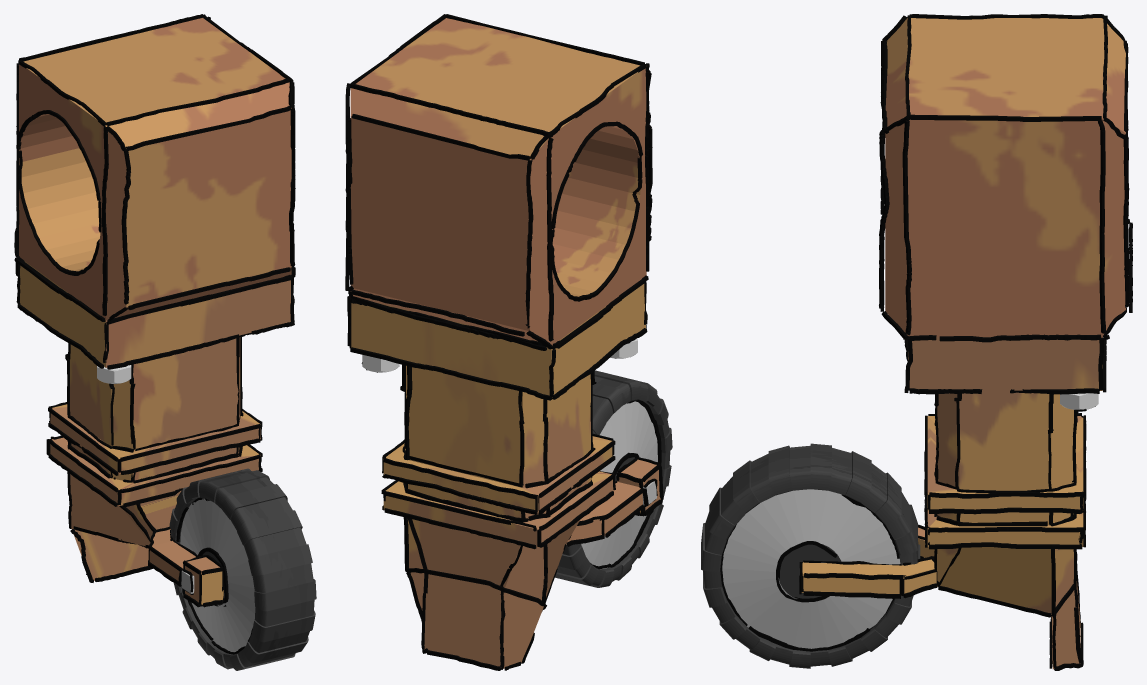
File: rollylegs.fbx
3 views of the same model, side by side, from view 1: azimuth 30°, elevation 25°; view 2: azimuth 150°, elevation 25°; view 3: azimuth 270°, elevation 25° (orthographic). The views are drawn at different scales.
Parts seen in each view (by area): view 1: Feet top, feet, wheel, feet top outline, GP_Layer.002, feet outline, screw1; view 2: Feet top, feet, GP_Layer.002, feet top outline, wheel, feet outline; view 3: Feet top, feet, wheel, GP_Layer.002, feet top outline, feet outline.
Part boxes in pixels (left/top/right/bottom): Feet top: left=19, top=18, right=291, bottom=320; feet: left=20, top=261, right=290, bottom=604; wheel: left=169, top=468, right=316, bottom=670; feet top outline: left=14, top=14, right=295, bottom=323; GP_Layer.002: left=46, top=335, right=262, bottom=654; feet outline: left=15, top=256, right=294, bottom=387; screw1: left=97, top=365, right=131, bottom=383; Feet top: left=350, top=18, right=646, bottom=345; feet: left=351, top=284, right=660, bottom=668; GP_Layer.002: left=381, top=382, right=663, bottom=670; feet top outline: left=345, top=14, right=652, bottom=350; wheel: left=555, top=370, right=672, bottom=587; feet outline: left=347, top=275, right=648, bottom=423; Feet top: left=885, top=18, right=1125, bottom=336; feet: left=801, top=337, right=1102, bottom=669; wheel: left=701, top=443, right=920, bottom=668; GP_Layer.002: left=720, top=397, right=1086, bottom=670; feet top outline: left=879, top=14, right=1132, bottom=340; feet outline: left=904, top=334, right=1106, bottom=431.
Size of the model in its own units: 15.22 by 39.03 by 25.89.
